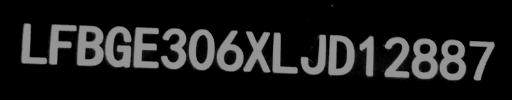letter: (47, 20, 77, 67), (74, 21, 104, 67), (186, 26, 216, 72), (214, 26, 244, 72), (242, 28, 272, 74), (18, 19, 48, 64), (103, 24, 133, 69), (409, 34, 439, 79), (158, 25, 188, 69), (270, 30, 300, 74), (132, 23, 160, 70), (326, 32, 356, 75), (438, 36, 468, 79), (382, 34, 410, 79), (468, 38, 496, 83), (299, 32, 327, 74), (356, 33, 376, 76)
